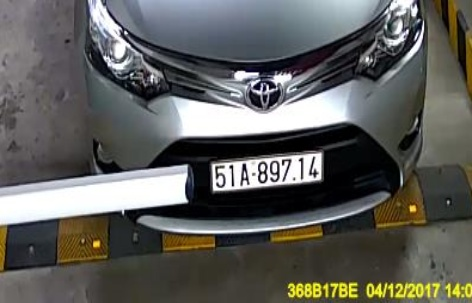plate: (206, 151, 330, 193)
